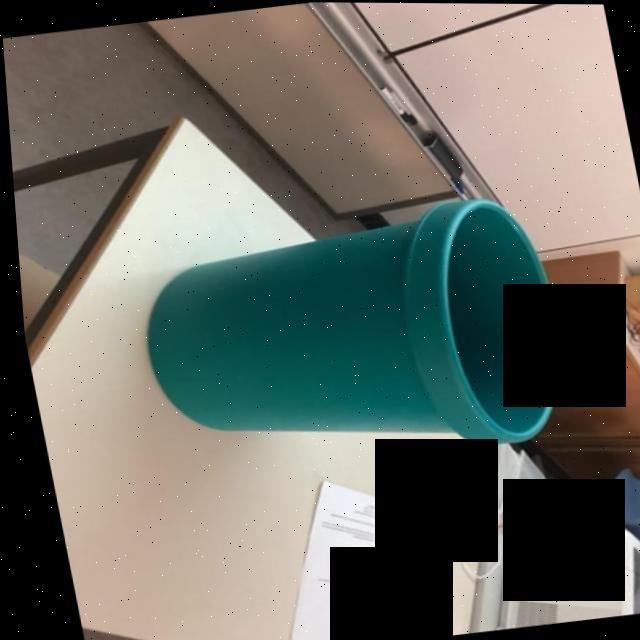bin: (112, 160, 588, 495)
